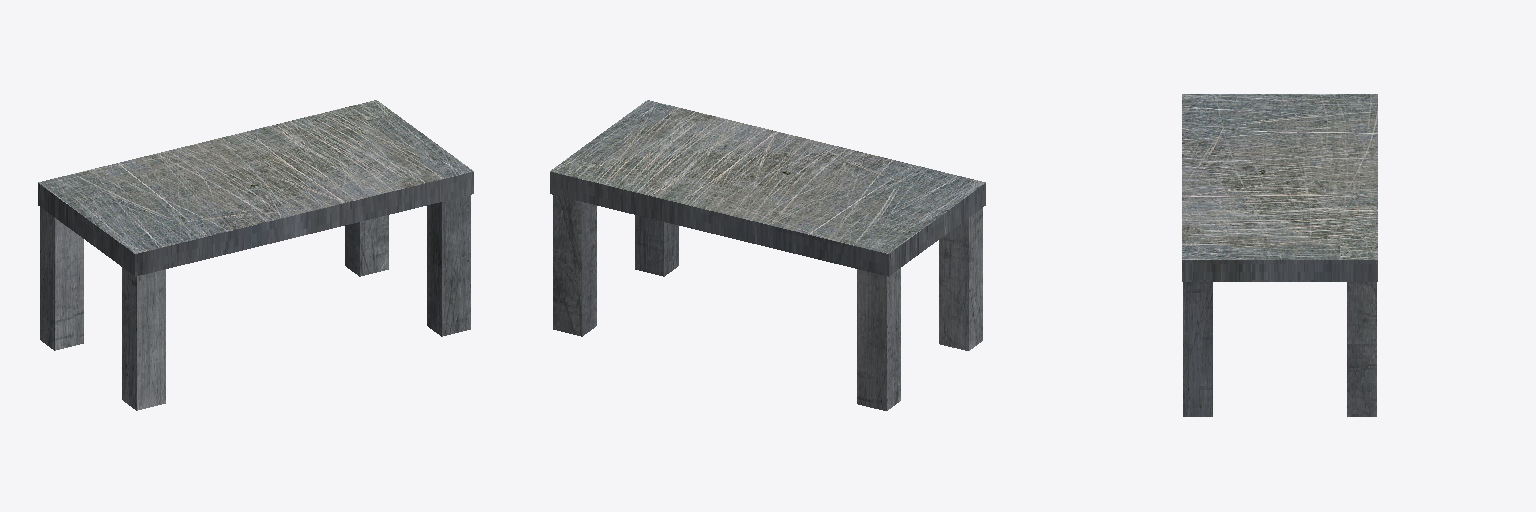
3 renders of one model, left to right at view 1: azimuth 30°, elevation 25°; view 2: azimuth 150°, elevation 25°; view 3: azimuth 270°, elevation 25°, orthographic.
Visible parts, largest first — view 1: Cube.003; view 2: Cube.003; view 3: Cube.003.
Part boxes in pixels (left/top/right/bottom): Cube.003: left=38, top=100, right=473, bottom=410; Cube.003: left=550, top=100, right=985, bottom=410; Cube.003: left=1182, top=94, right=1377, bottom=416.
Size of the model in its own units: 2.4 by 1.07 by 1.2.
Materials: 1 (1 with a texture image).